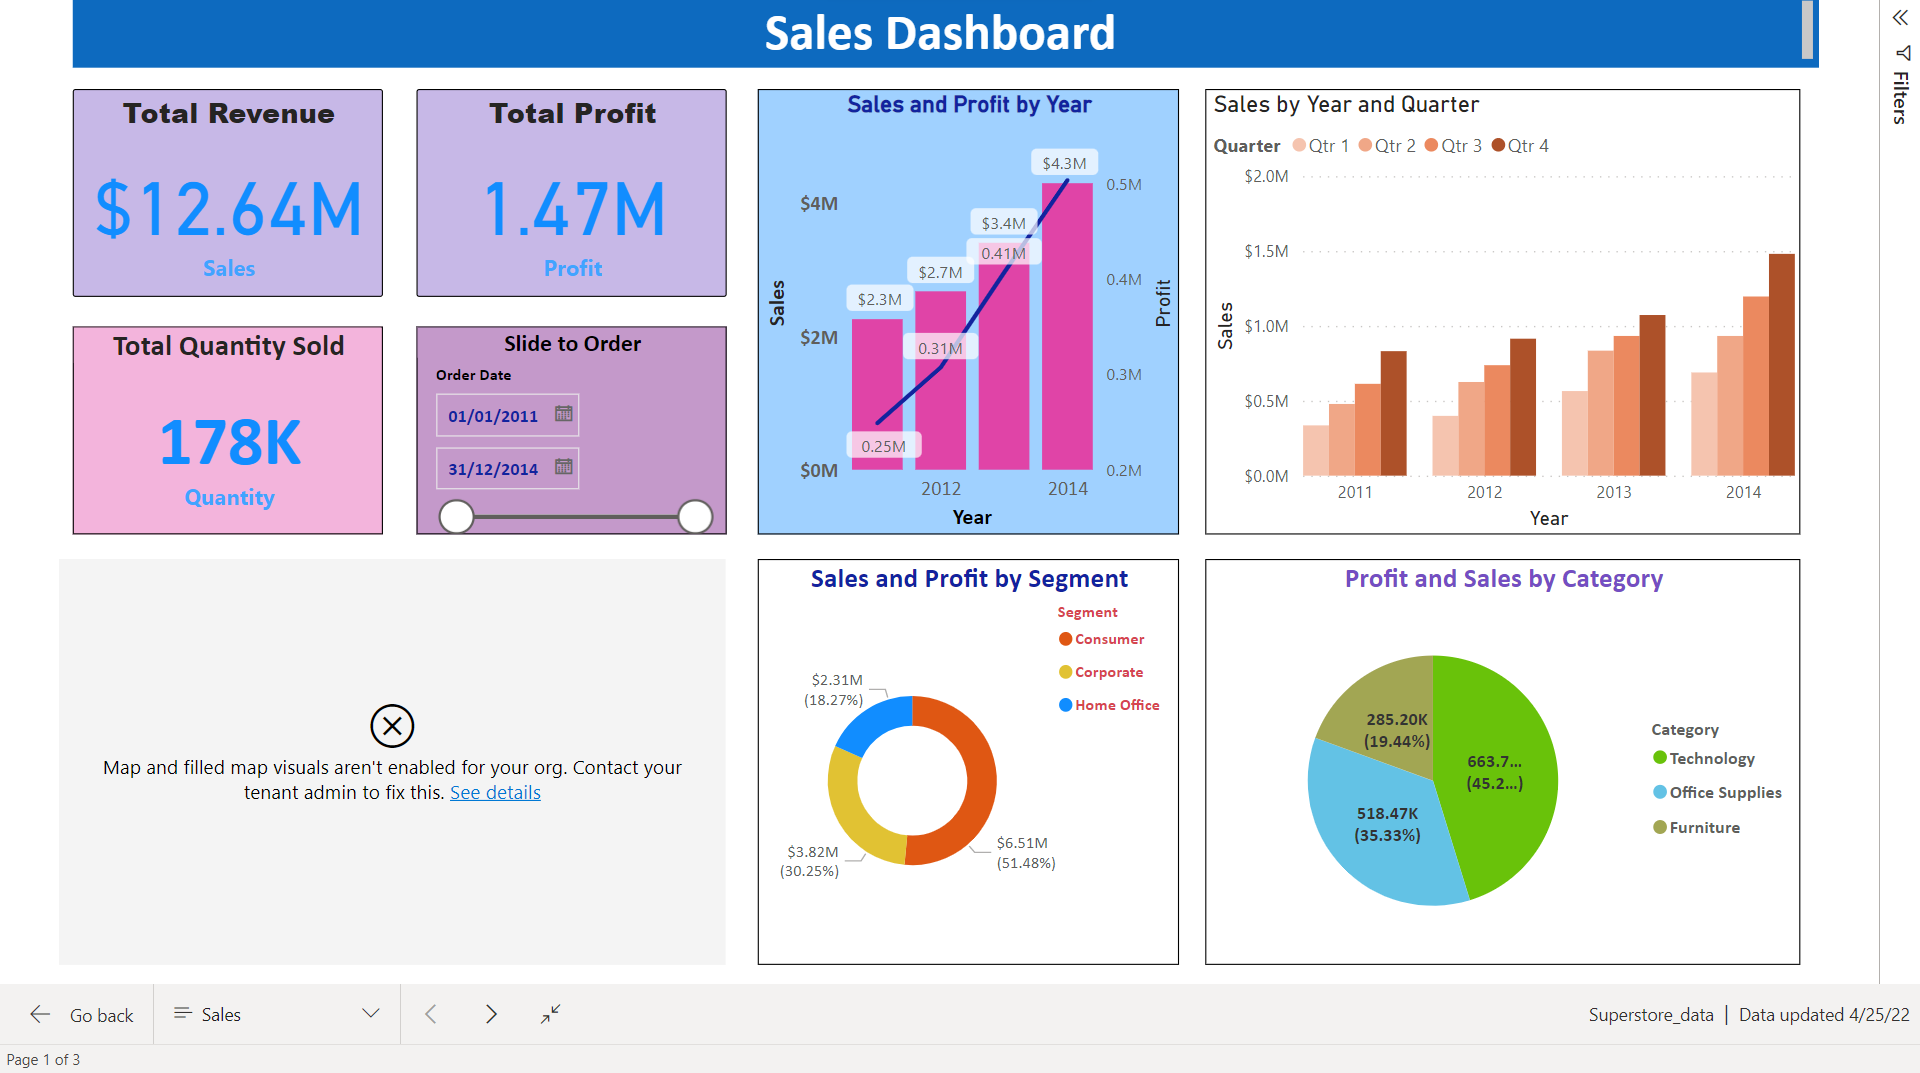

The page's visual inventory and layout, read from the dashboard file:
{"tool":"powerbi","page":{"name":"Sales","canvas":[1280,720],"ordinal":0},"visuals":[{"type":"textbox","box":[9.6,0,1270.4,53.6],"z":0},{"type":"card","title":"Total Revenue","fields":{"Values":["Sum(Orders.Sales)"]},"box":[9.6,68.7,225.2,151.1],"z":1000},{"type":"card","title":"Total Quantity Sold","fields":{"Values":["Sum(Orders.Quantity)"]},"box":[9.6,241.7,225.2,151.1],"z":2000},{"type":"card","title":"Total Profit","fields":{"Values":["Sum(Orders.Profit)"]},"box":[259.6,68.7,225.2,151.1],"z":3000},{"type":"slicer","title":"Slide to Order","fields":{"Values":["Orders.Order Date"]},"box":[259.6,241.7,225.2,151.1],"z":4000},{"type":"lineStackedColumnComboChart","fields":{"Y":["Sum(Orders.Sales)"],"Y2":["Sum(Orders.Profit)"],"Category":["Orders.Order Date.Variation.Date Hierarchy.Year","Orders.Order Date.Variation.Date Hierarchy.Quarter","Orders.Order Date.Variation.Date Hierarchy.Month","Orders.Order Date.Variation.Date Hierarchy.Day"]},"box":[508.2,68.7,306.3,324.1],"z":5000},{"type":"clusteredColumnChart","fields":{"Category":["Orders.Year"],"Series":["Orders.Quarter"],"Y":["Sum(Orders.Sales)"]},"box":[833.6,68.7,432.6,324.1],"z":6000},{"type":"filledMap","fields":{"Category":["Orders.State"]},"box":[0,410.6,484.8,295.3],"z":7000},{"type":"donutChart","fields":{"Category":["Orders.Segment"],"Y":["Sum(Orders.Sales)"]},"box":[508.2,410.6,306.3,295.3],"z":8000},{"type":"pieChart","fields":{"Category":["Orders.Category"],"Y":["Sum(Orders.Profit)"]},"box":[833.6,410.6,432.6,295.3],"z":9000}]}

Visuals, with their boxes on the page's 1280x720 design canvas (x1, y1, x2, y2). These are canvas units, not pixel positions in the 1920x1073 screenshot, which may show the page scaled, cropped or inside an application window:
textbox: box(10, 0, 1280, 54)
"Total Revenue" card: box(10, 69, 235, 220)
"Total Quantity Sold" card: box(10, 242, 235, 393)
"Total Profit" card: box(260, 69, 485, 220)
"Slide to Order" slicer: box(260, 242, 485, 393)
lineStackedColumnComboChart - Sum(Orders.Sales) x Sum(Orders.Profit): box(508, 69, 814, 393)
clusteredColumnChart - Orders.Year x Orders.Quarter: box(834, 69, 1266, 393)
filledMap - Orders.State: box(0, 411, 485, 706)
donutChart - Orders.Segment x Sum(Orders.Sales): box(508, 411, 814, 706)
pieChart - Orders.Category x Sum(Orders.Profit): box(834, 411, 1266, 706)
